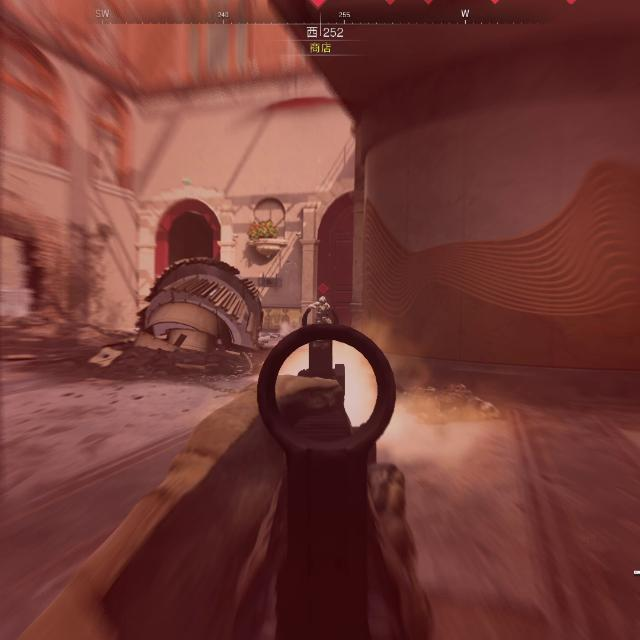MW2_body: (310, 283, 333, 324)
